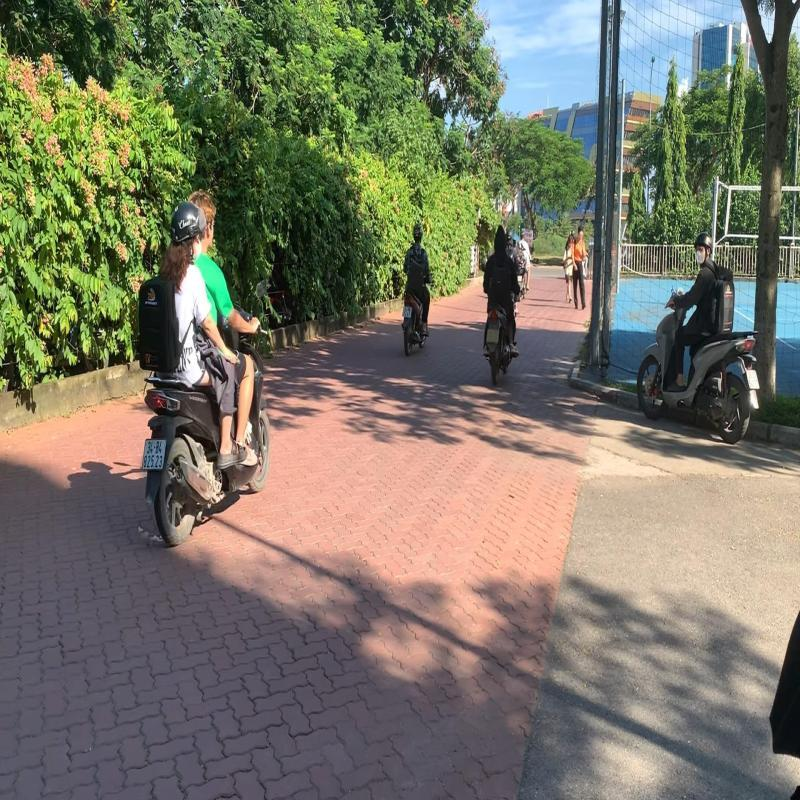nohelmet: (190, 189, 217, 225)
